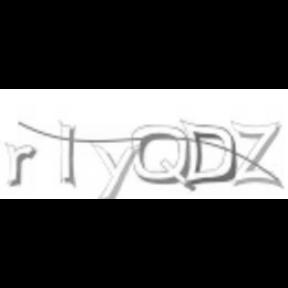D: (180, 117, 236, 184)
I: (56, 116, 80, 188)
Q: (128, 124, 196, 190)
Z: (228, 119, 284, 189)
r: (3, 142, 37, 188)
y: (89, 142, 137, 200)
